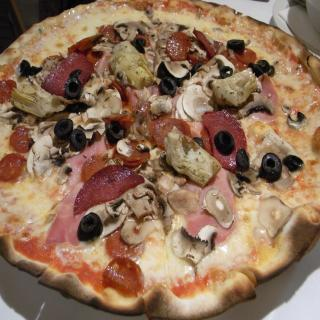Cheese: (0, 0, 320, 283)
Pizza: (156, 118, 318, 320), (2, 132, 148, 315), (0, 21, 138, 185), (53, 0, 198, 120), (163, 6, 320, 116)
